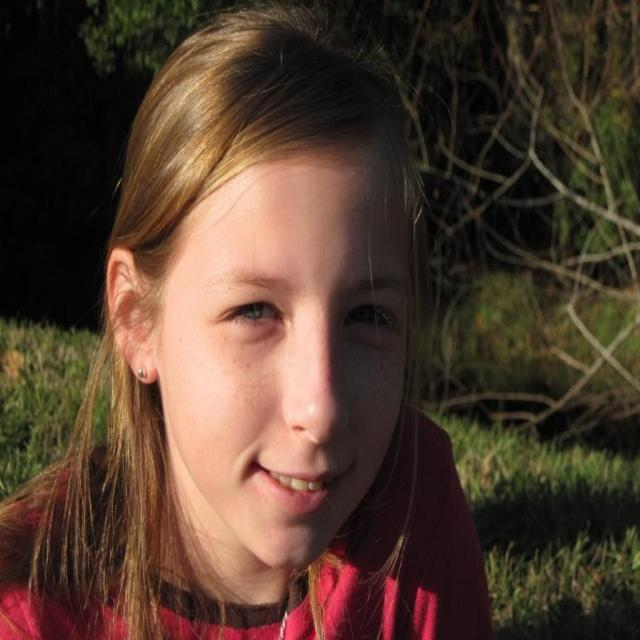Face: (154, 150, 414, 557)
